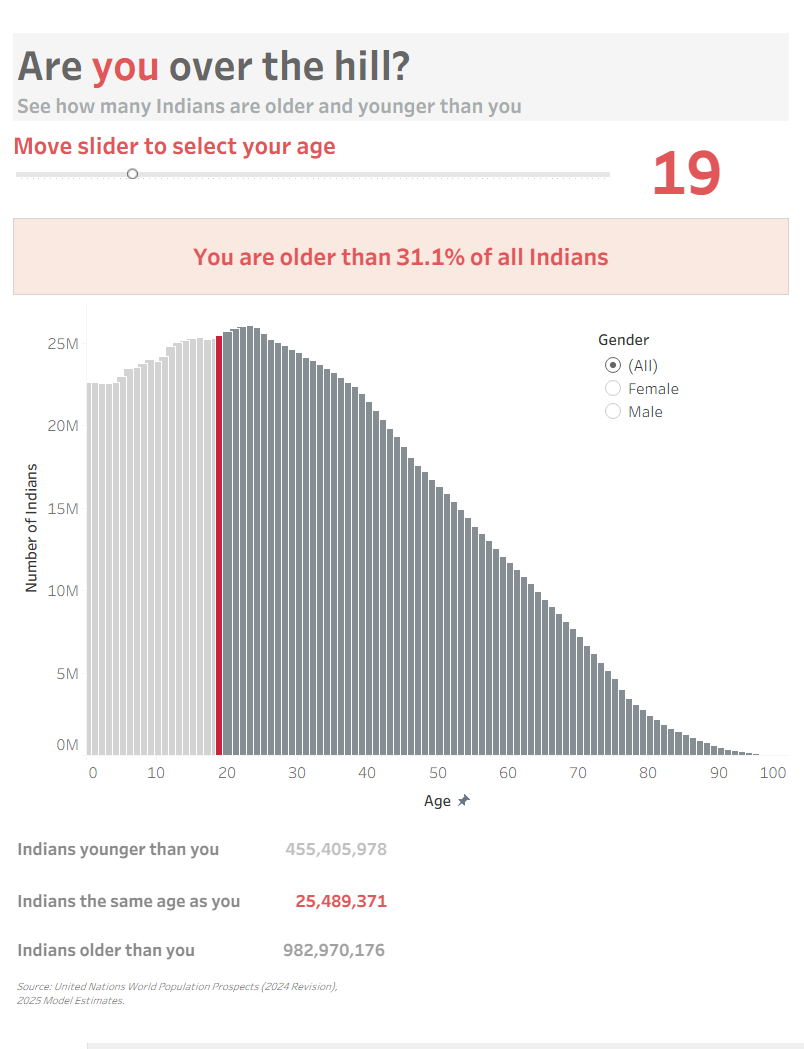

What the dashboard file says about the page in this screenshot:
{"tool":"tableau","page":{"name":"Dashboard 1","canvas":[800,1000],"ordinal":0},"visuals":[{"type":"worksheet","title":"Title","mark":"Automatic","box":[8,8,784,96]},{"type":"parameter","param":"[Parameters].[Parameter 1642450118373376]","box":[8,104,608,89]},{"type":"worksheet","title":"Age Display","mark":"Automatic","box":[616,104,139,89]},{"type":"blank","box":[16,158,595,4]},{"type":"worksheet","title":"Percentile","mark":"Automatic","box":[8,193,784,85]},{"type":"worksheet","title":"Sheet 1","mark":"Bar","rows":["Population"],"cols":["Age"],"box":[8,278,784,523]},{"type":"filter","title":"Sheet 1","param":"[federated.1ck6atk1rmtmwn1byap3i0c1un3x].[none:Gender:nk]","box":[597,308,176,111]},{"type":"worksheet","title":"Younger","mark":"Automatic","box":[8,801,784,54]},{"type":"worksheet","title":"Same Age","mark":"Automatic","box":[8,855,784,49]},{"type":"worksheet","title":"Older","mark":"Automatic","box":[8,904,784,49]},{"type":"text","box":[8,953,784,39]}]}

Visuals, with their boxes on the page's 800x1000 design canvas (x1, y1, x2, y2). These are canvas units, not pixel positions in the 804x1049 screenshot, which may show the page scaled, cropped or inside an application window:
"Title" worksheet: locate(8, 8, 792, 104)
parameter: locate(8, 104, 616, 193)
"Age Display" worksheet: locate(616, 104, 755, 193)
blank: locate(16, 158, 611, 162)
"Percentile" worksheet: locate(8, 193, 792, 278)
"Sheet 1" worksheet (Bar marks): locate(8, 278, 792, 801)
"Sheet 1" filter: locate(597, 308, 773, 419)
"Younger" worksheet: locate(8, 801, 792, 855)
"Same Age" worksheet: locate(8, 855, 792, 904)
"Older" worksheet: locate(8, 904, 792, 953)
text: locate(8, 953, 792, 992)
